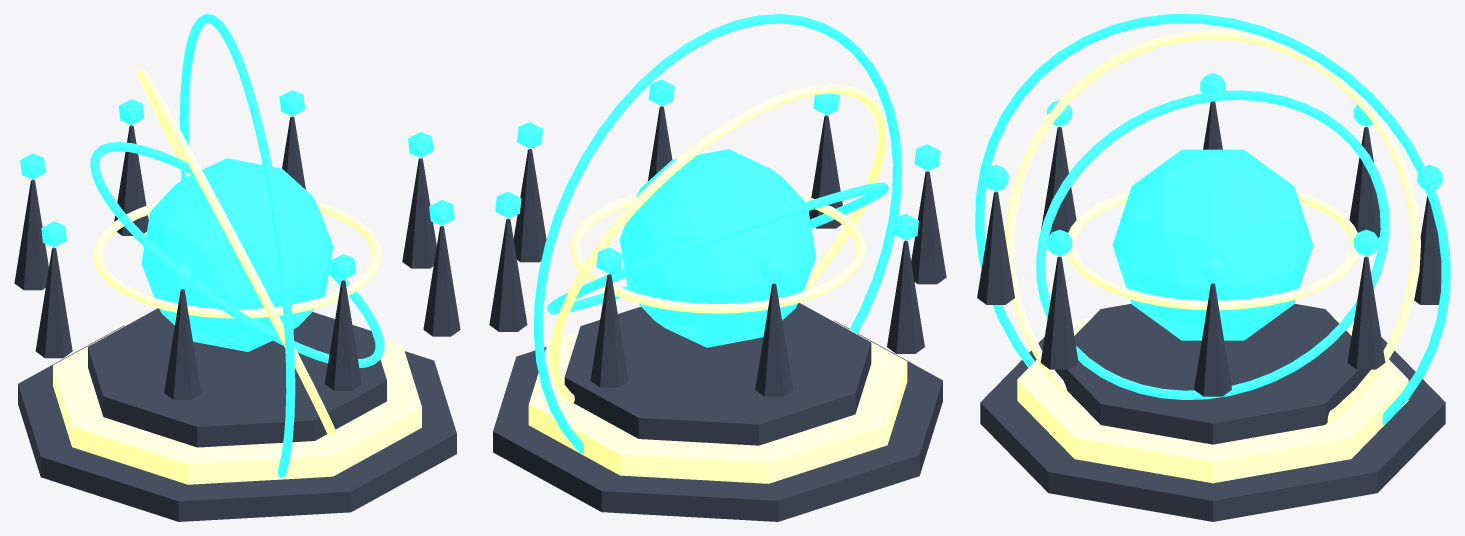
The model's file is gpu-blender-v50.glb.
The picture shows the model from 3 angles, left to right: view 1: azimuth 30°, elevation 25°; view 2: azimuth 150°, elevation 25°; view 3: azimuth 270°, elevation 25°; orthographic projection. The views are drawn at different scales.
Parts seen in each view (by area): view 1: Cylinder.002, SovereignCore_agent-capsule-jail, Cylinder, Cylinder.001, Torus.003, Torus.001, Torus.002, Torus, Cone.004, Cone.007, Cone.005, Cone.006 (+12 smaller); view 2: Cylinder.002, SovereignCore_agent-capsule-jail, Cylinder, Cylinder.001, Torus.003, Torus.002, Torus.001, Torus, Cone.002, Cone.003, Cone.001, Cone.004 (+11 smaller); view 3: SovereignCore_agent-capsule-jail, Cylinder.002, Cylinder, Cylinder.001, Torus.003, Torus.002, Torus.001, Torus, Cone, Cone.001, Cone.007, Cone.006 (+8 smaller).
Part boxes in pixels (x1,y1,x2,y2): Cylinder.002: (88,308,386,447); SovereignCore_agent-capsule-jail: (141,158,333,351); Cylinder: (18,325,456,521); Cylinder.001: (53,316,421,484); Torus.003: (179,14,295,477); Torus.001: (90,142,384,367); Torus.002: (137,69,336,436); Torus: (93,202,381,318); Cone.004: (35,247,72,358); Cone.007: (423,226,460,336); Cone.005: (164,289,201,399); Cone.006: (325,280,361,390); Cylinder.002: (564,303,871,445); SovereignCore_agent-capsule-jail: (619,149,816,347); Cylinder: (493,320,942,521); Cylinder.001: (528,311,907,483); Torus.003: (533,14,902,452); Torus.002: (549,84,886,403); Torus.001: (547,182,888,314); Torus: (570,193,865,313); Cone.002: (590,274,628,387); Cone.003: (755,283,793,396); Cone.001: (489,218,527,331); Cone.004: (887,240,924,353); SovereignCore_agent-capsule-jail: (1112,149,1313,340); Cylinder.002: (1055,303,1370,444); Cylinder: (980,337,1445,521); Cylinder.001: (1017,318,1408,483); Torus.003: (975,14,1450,424); Torus.002: (1005,30,1420,423); Torus.001: (1036,90,1389,399); Torus: (1067,191,1358,310); Cone: (1194,283,1231,396); Cone.001: (1347,256,1385,369); Cone.007: (1040,256,1078,369); Cone.006: (977,191,1014,304).
Bounding box in the file's own units: 4.41 × 4.7 × 4.49.
